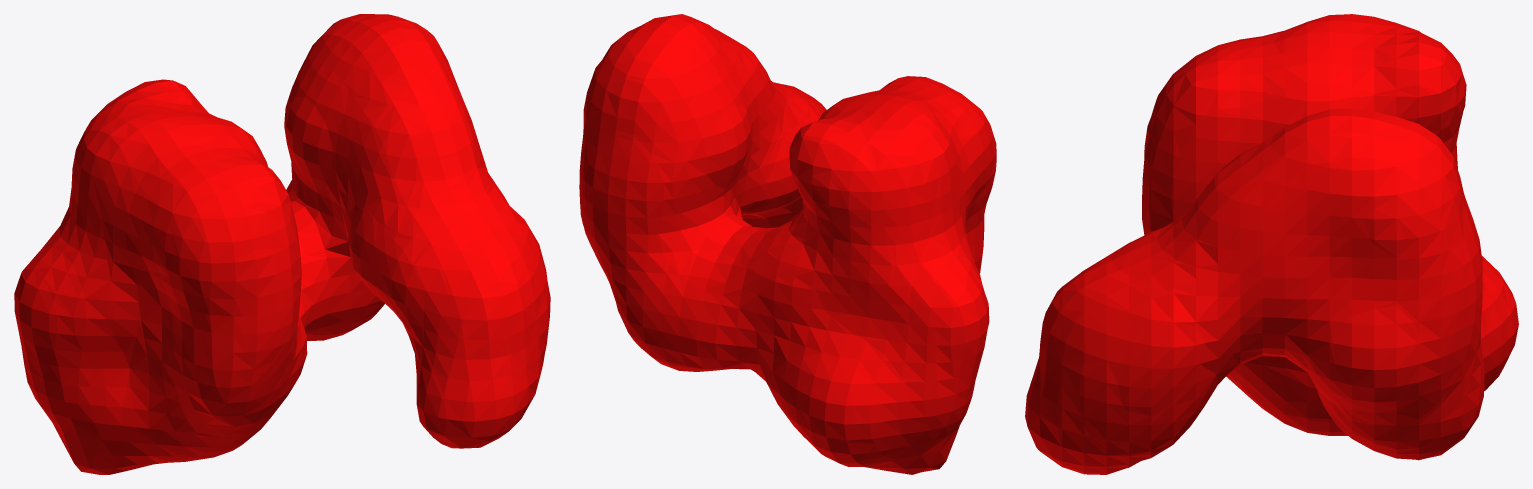
Rendered from trpR_coarse.dae.
The picture shows the model from 3 angles, left to right: view 1: azimuth 30°, elevation 25°; view 2: azimuth 150°, elevation 25°; view 3: azimuth 270°, elevation 25°; orthographic projection. The views are drawn at different scales.
Visible parts, largest first — view 1: trpR; view 2: trpR; view 3: trpR.
Boxes of the visible parts, <box> form: trpR: <box>14,14,550,474</box>; trpR: <box>579,14,996,474</box>; trpR: <box>1025,14,1518,474</box>.
Size of the model in its own units: 43.94 by 39.62 by 39.84.
